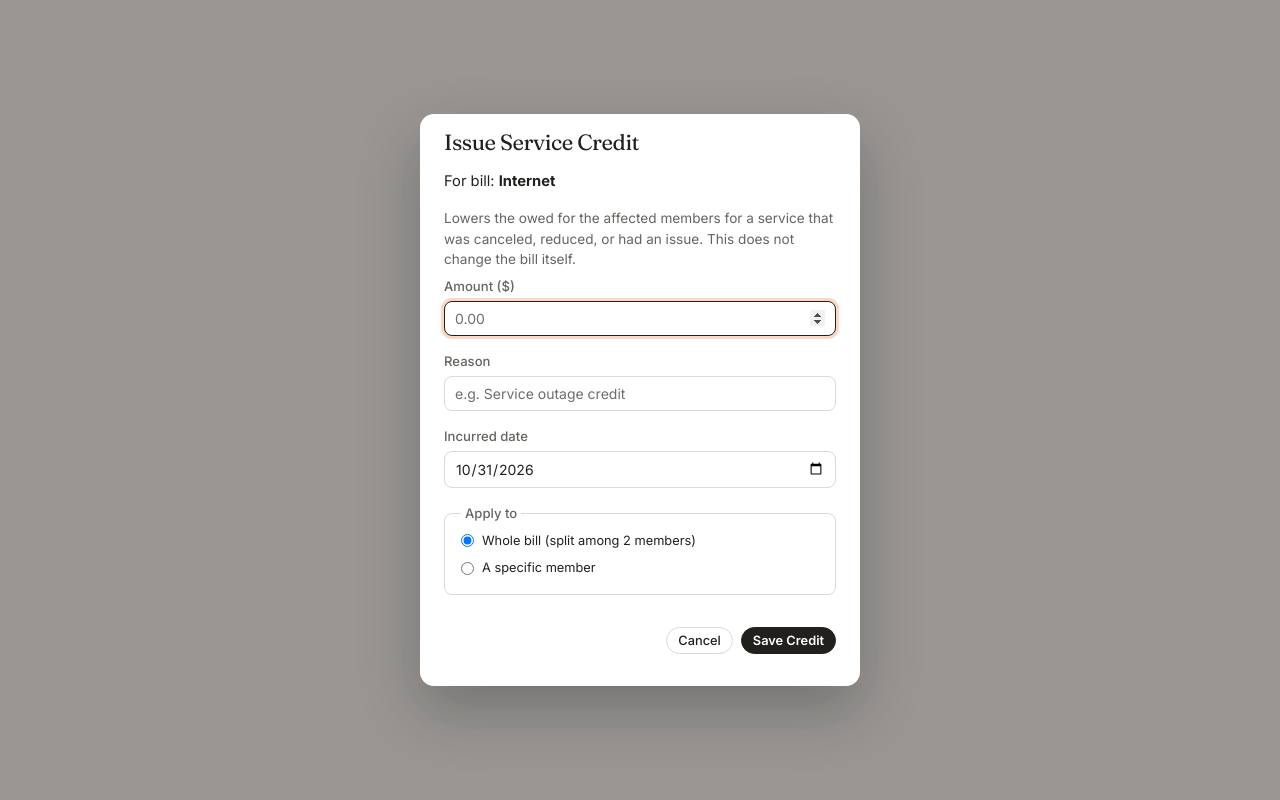
Test: ServiceCreditDialog › blocks submit and shows an error for a non-positive amount
Type "X" into the field labelled "Reason" at (640, 393), box top-left (444, 376), bottom-right (836, 411)
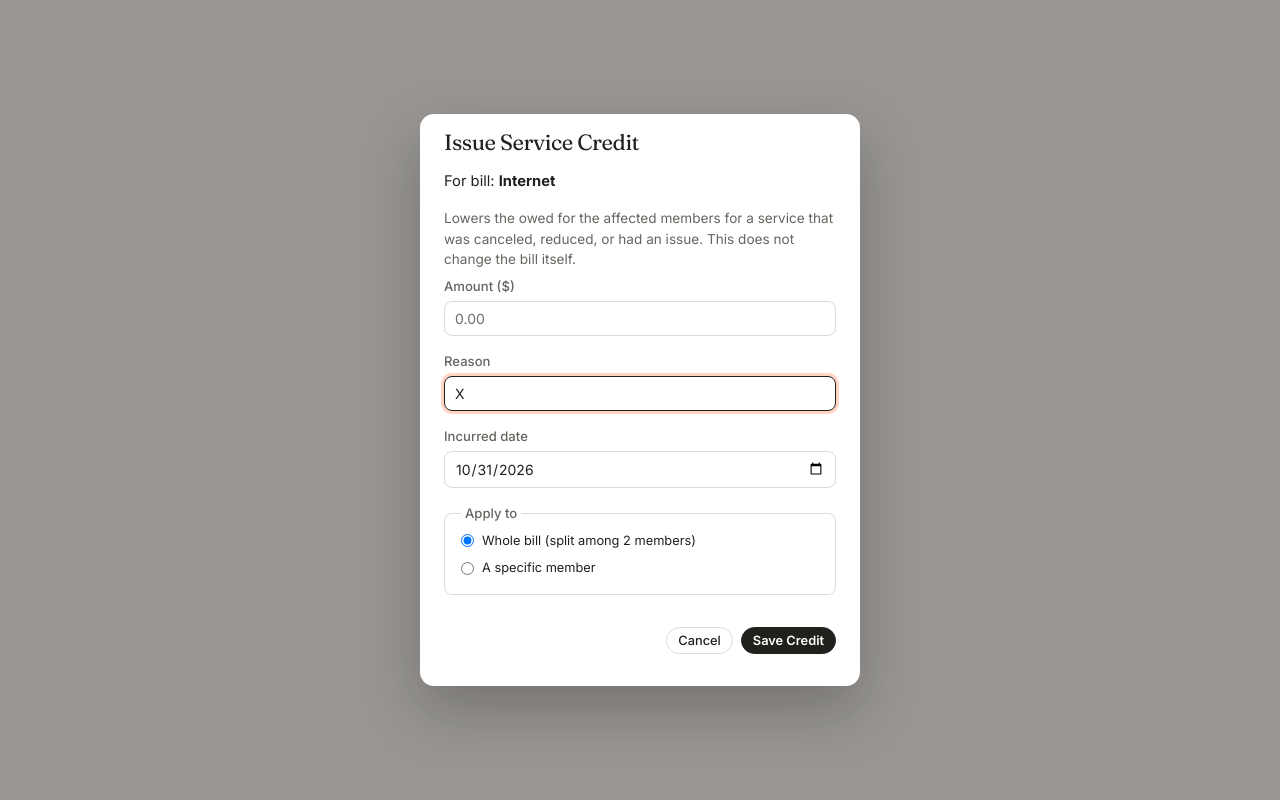
Click the button "Save Credit" at (788, 640), box top-left (741, 627), bottom-right (836, 654)
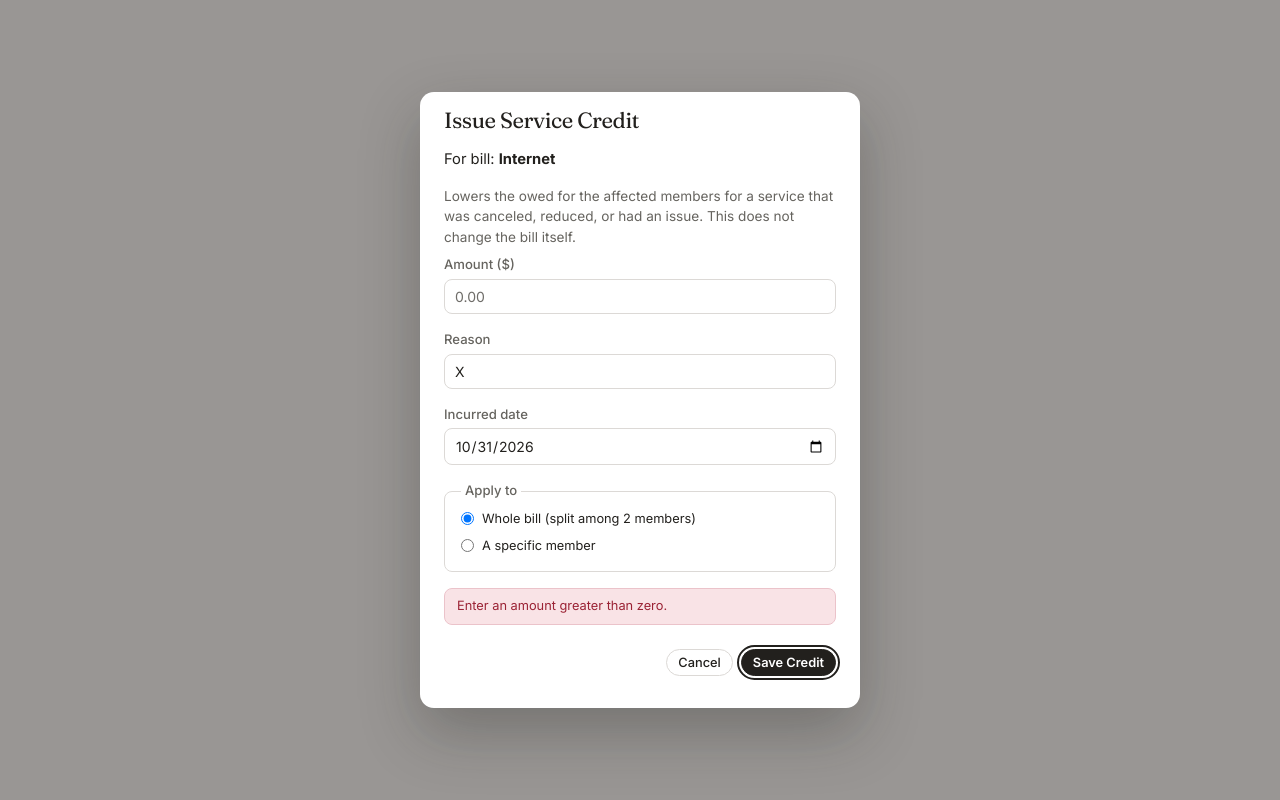
Check: the text "Enter an amount greater than zero." is shown, box top-left (444, 588), bottom-right (836, 625)
